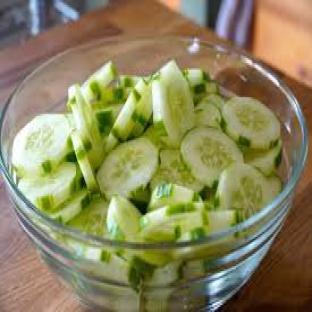Cucumber: (66, 239, 141, 289), (12, 115, 72, 177), (181, 127, 242, 187), (97, 137, 158, 197), (153, 62, 194, 146), (217, 164, 280, 216), (19, 162, 80, 209), (223, 98, 280, 148), (106, 79, 145, 151), (140, 203, 207, 242), (70, 84, 103, 153), (150, 151, 204, 190), (143, 261, 180, 311), (180, 210, 237, 242), (71, 130, 98, 194), (107, 197, 141, 242), (67, 198, 107, 236), (149, 183, 199, 211), (48, 190, 90, 223), (83, 62, 116, 103), (244, 140, 282, 175), (131, 79, 153, 138), (184, 69, 217, 103), (145, 261, 181, 286), (95, 104, 122, 136), (207, 210, 237, 233), (196, 101, 221, 127), (100, 86, 129, 107), (130, 188, 150, 213), (145, 125, 165, 150), (182, 260, 207, 279), (266, 174, 282, 202), (183, 69, 209, 86), (201, 94, 225, 110), (118, 76, 140, 88), (65, 113, 76, 131), (206, 82, 218, 93)
